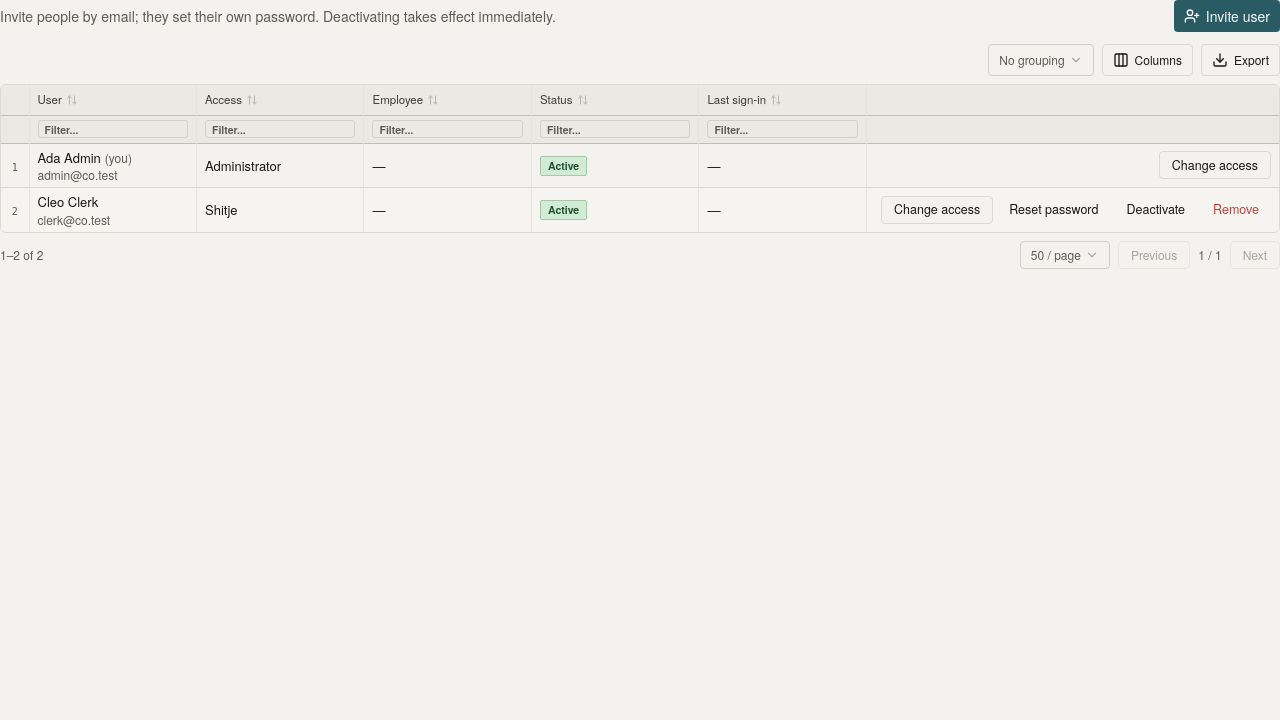
Test: Users tab › lists users with their access and invites someone with a role, showing the link
Expected: the text "Cleo Clerk" is shown, [38, 192, 98, 211]
Expected: the text "Shitje" is shown, [196, 188, 364, 232]
Step 1. Click the button "Invite user" → (1227, 16), box [1174, 0, 1279, 32]
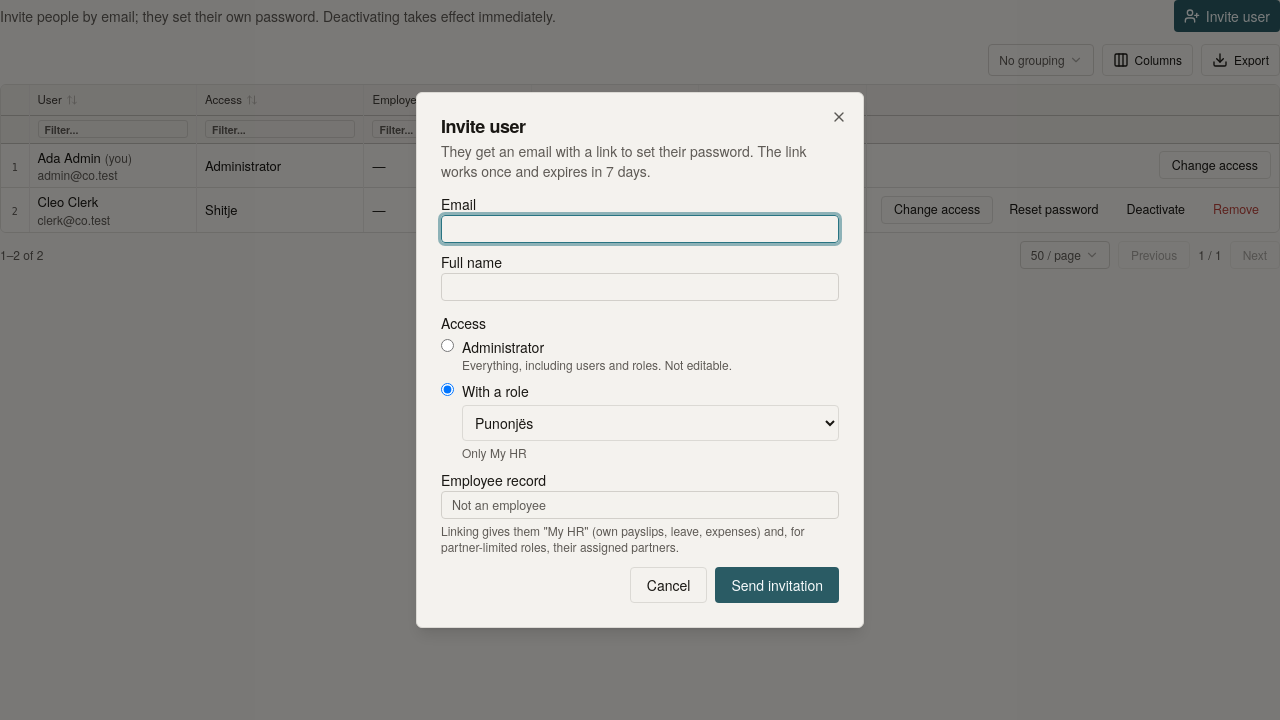
Step 2. Type "new@co.test" into the field labelled "Email" → (640, 229), box [441, 215, 839, 243]
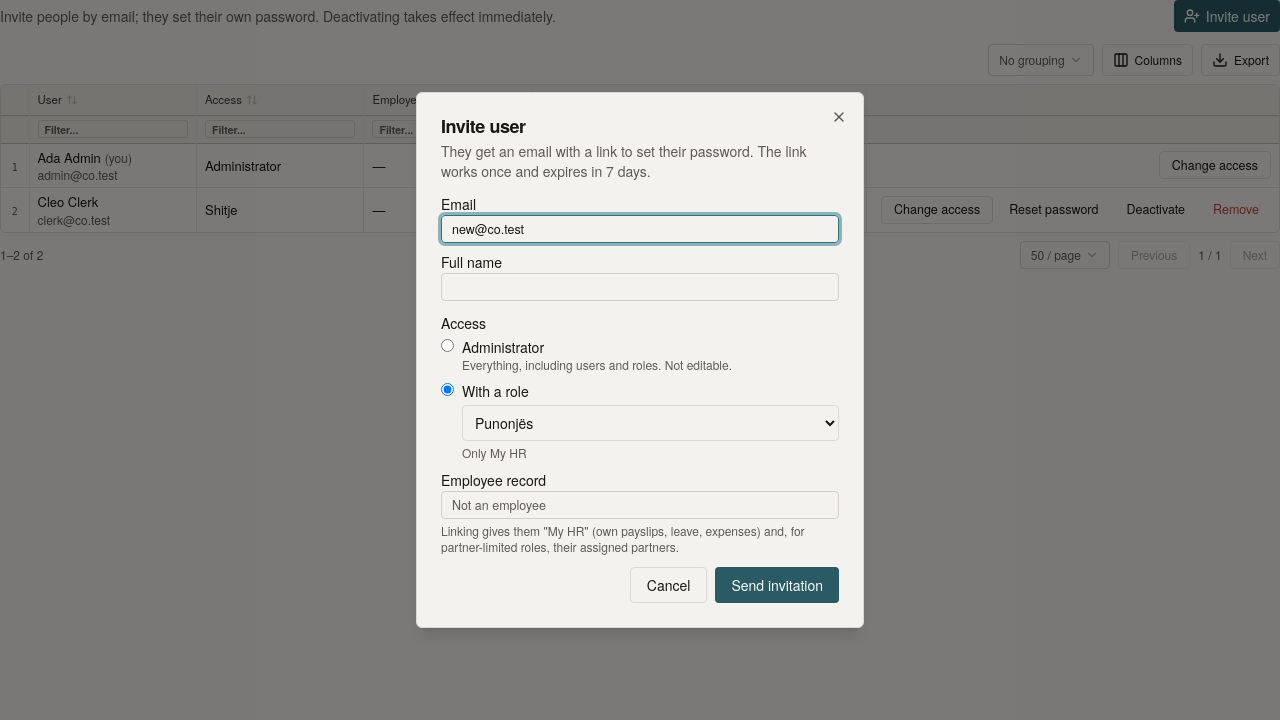
Step 3. Select "Shitje" in the dropdown named "Role" → (650, 423), box [462, 405, 839, 441]
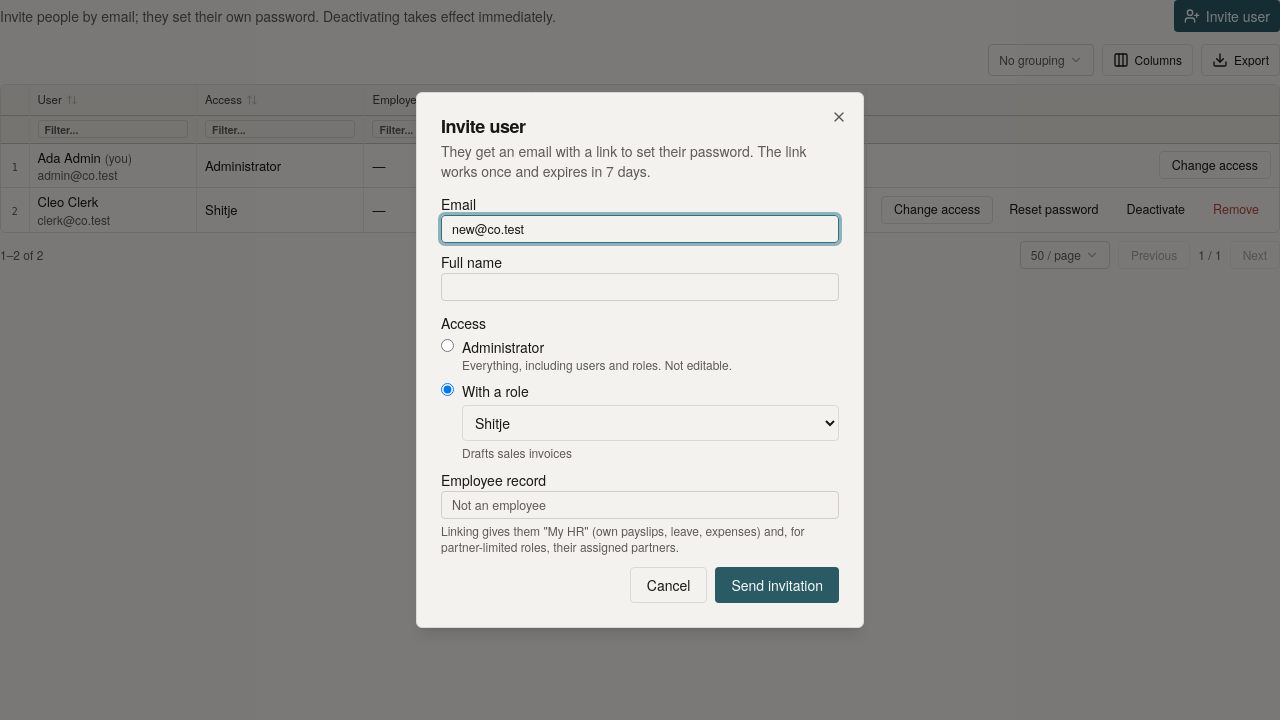
Step 4. Click the button "Send invitation" → (777, 585), box [715, 567, 839, 603]
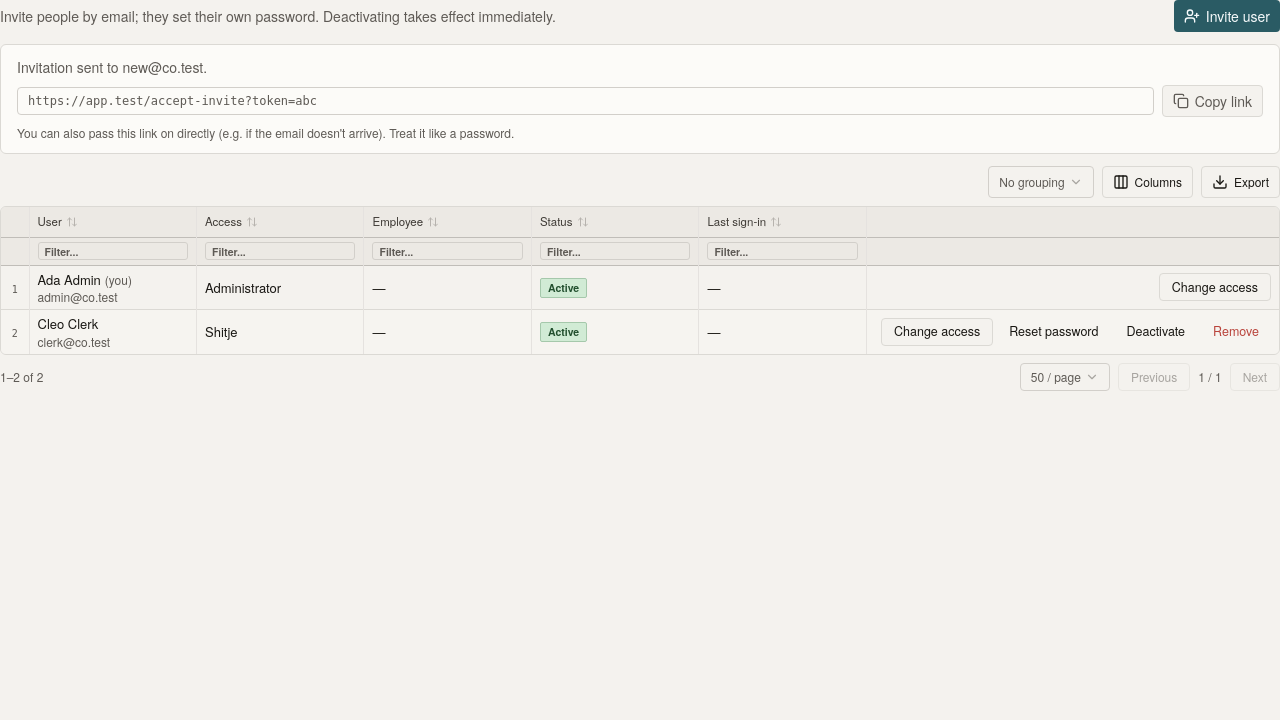
Expected: the field showing "https://app.test/accept-invite?token=abc" is shown, [17, 87, 1154, 115]
